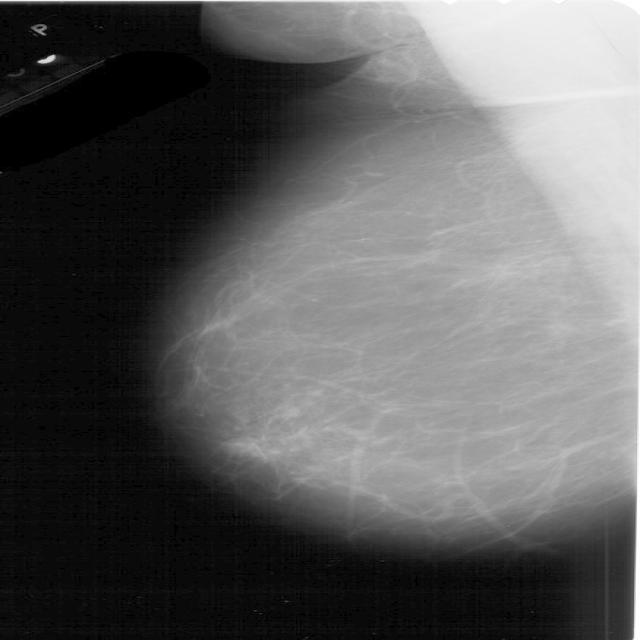tumour: (542, 319, 581, 340)
